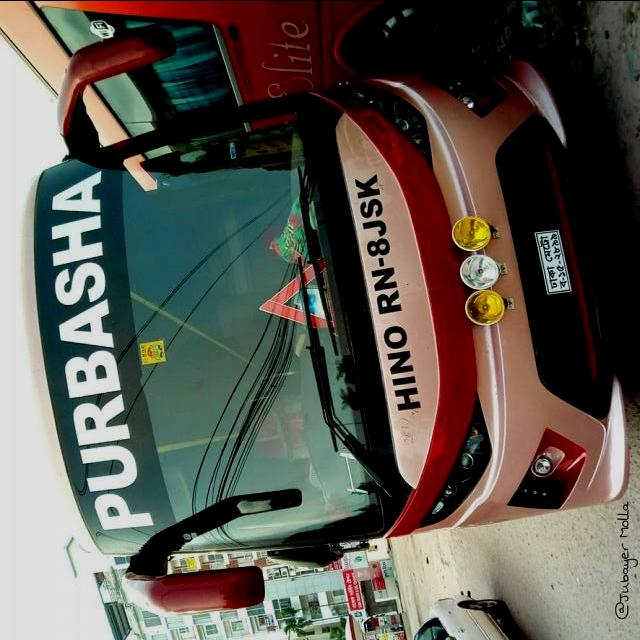bus: (17, 23, 635, 620)
